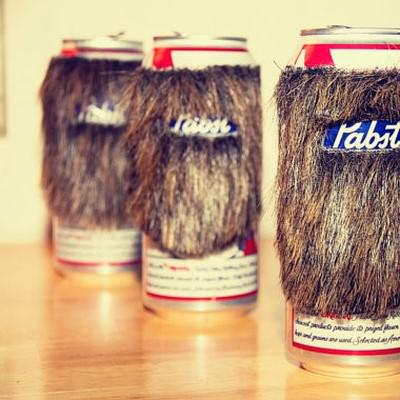beer: (45, 27, 400, 374)
